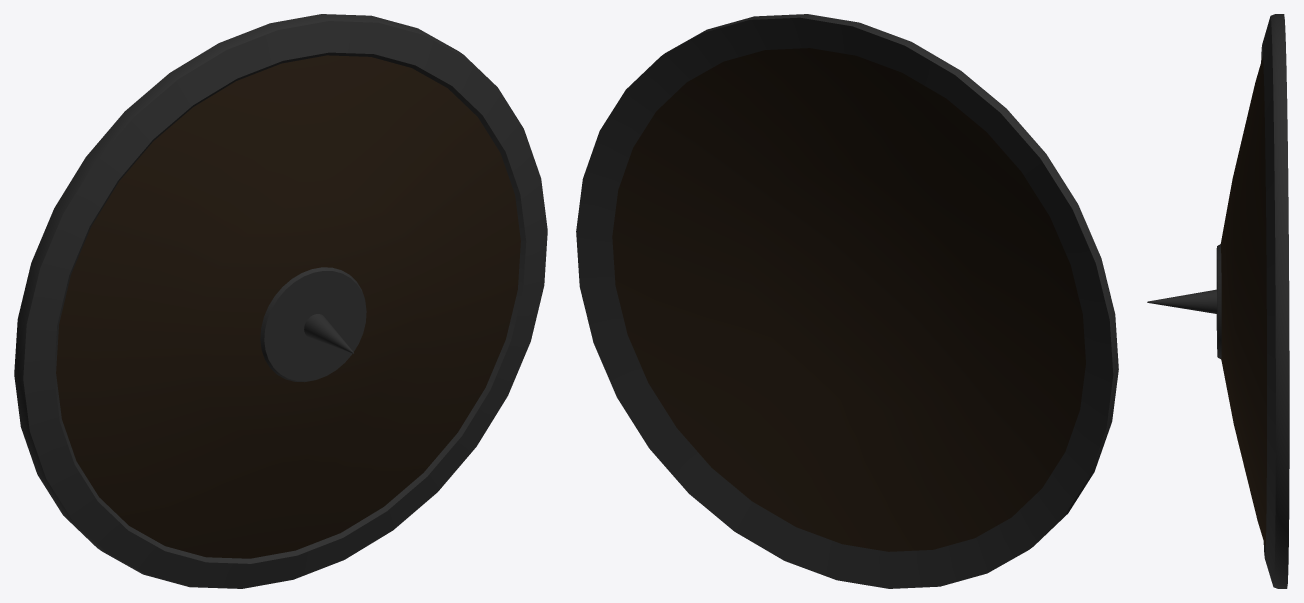
Rendered from SD2wr_shield_2_drf.fbx.
3 renders of one model, left to right at view 1: azimuth 30°, elevation 25°; view 2: azimuth 150°, elevation 25°; view 3: azimuth 270°, elevation 25°, orthographic. The views are drawn at different scales.
Parts seen in each view (by area): view 1: SD2wr_shield_2_drf; view 2: SD2wr_shield_2_drf; view 3: SD2wr_shield_2_drf.
Part boxes in pixels (x1,y1,x2,y2): SD2wr_shield_2_drf: (14,14,547,588); SD2wr_shield_2_drf: (576,14,1118,588); SD2wr_shield_2_drf: (1147,14,1289,588).
Bounding box in the file's own units: 78.38 × 19.39 × 78.38.
